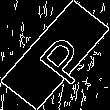P_NW: (21, 25, 89, 85)
